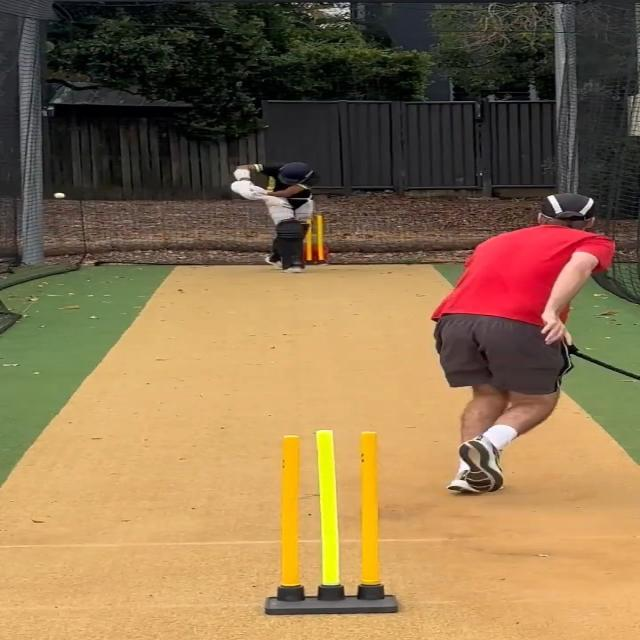ball: (53, 190, 67, 198)
stump: (264, 424, 402, 616)
